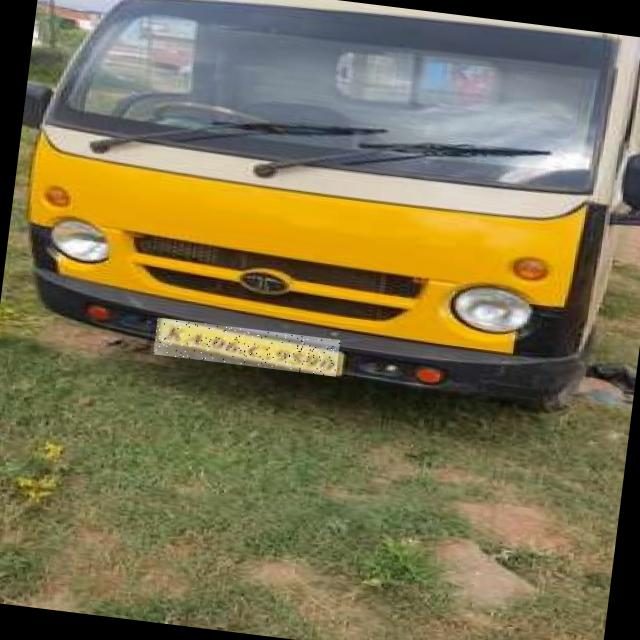Plate: (154, 318, 341, 377)
